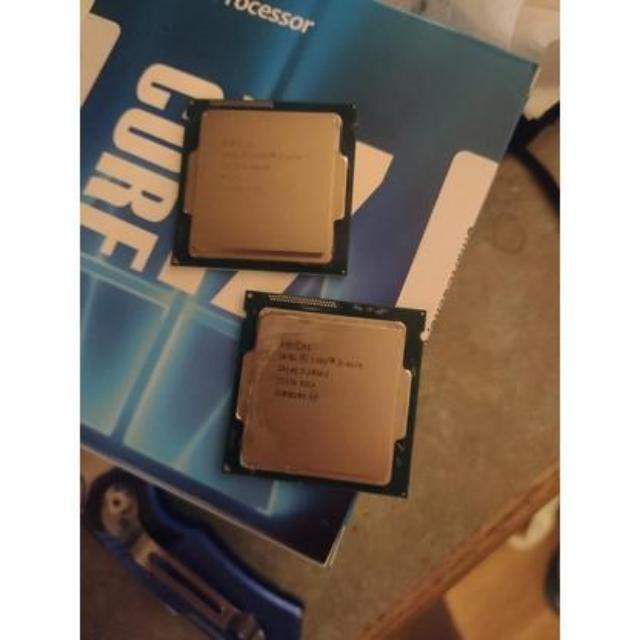CPU: (234, 287, 418, 493), (182, 98, 350, 267)
